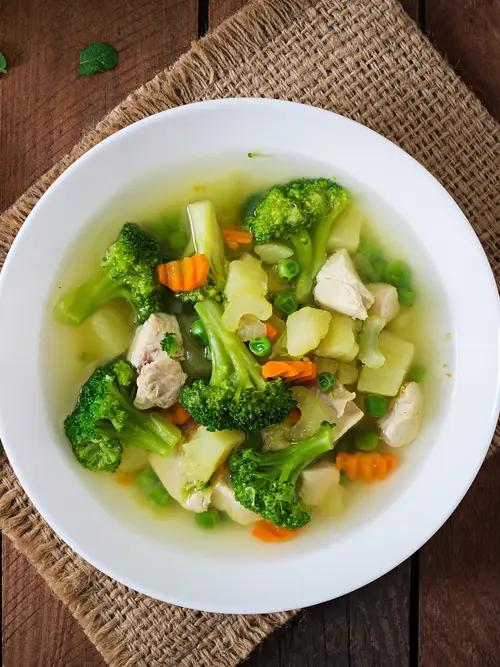buah_sayur_lainnya: (63, 308, 248, 510)
